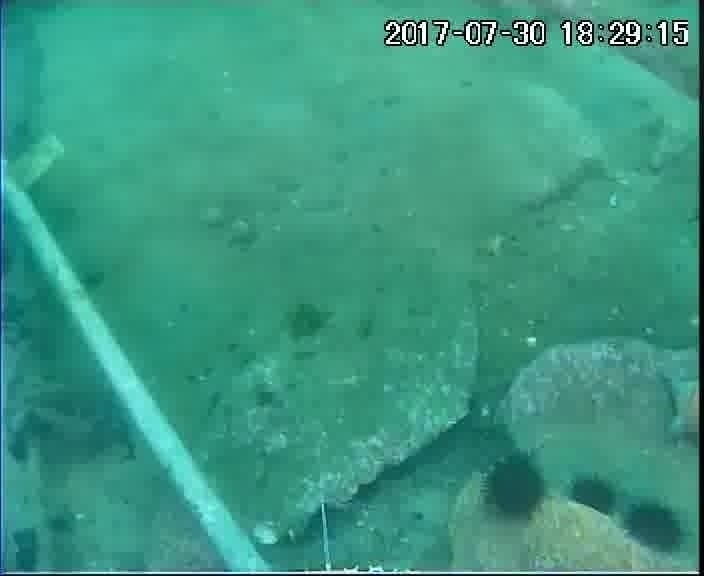echinus: (479, 450, 550, 525), (619, 497, 690, 559), (564, 472, 622, 524)
starfish: (654, 370, 702, 456)
